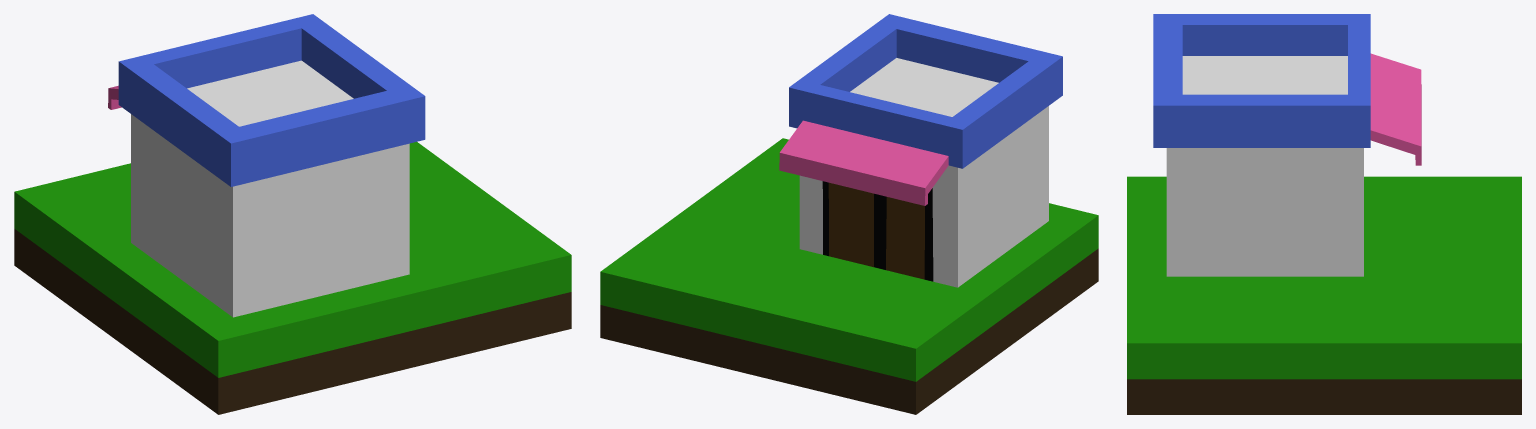
Rendered from shop.dae.
3 renders of one model, left to right at view 1: azimuth 30°, elevation 25°; view 2: azimuth 150°, elevation 25°; view 3: azimuth 270°, elevation 25°, orthographic. The views are drawn at different scales.
Visible parts, largest first — view 1: shop_tile; view 2: shop_tile; view 3: shop_tile.
Part boxes in pixels (x1,y1,x2,y2): shop_tile: [14, 14, 571, 414]; shop_tile: [600, 14, 1098, 414]; shop_tile: [1127, 14, 1521, 414].
Size of the model in its own units: 0.00999 by 0.01 by 0.0069.
